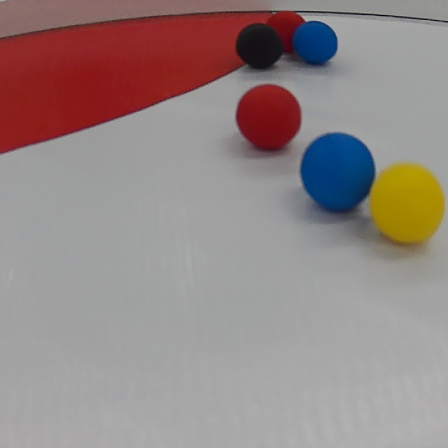black: (237, 23, 286, 67)
blue: (304, 131, 374, 215), (291, 21, 340, 63)
red: (234, 83, 301, 151), (272, 10, 304, 41)
red_base: (0, 9, 294, 146)
yellow: (368, 162, 447, 245)
